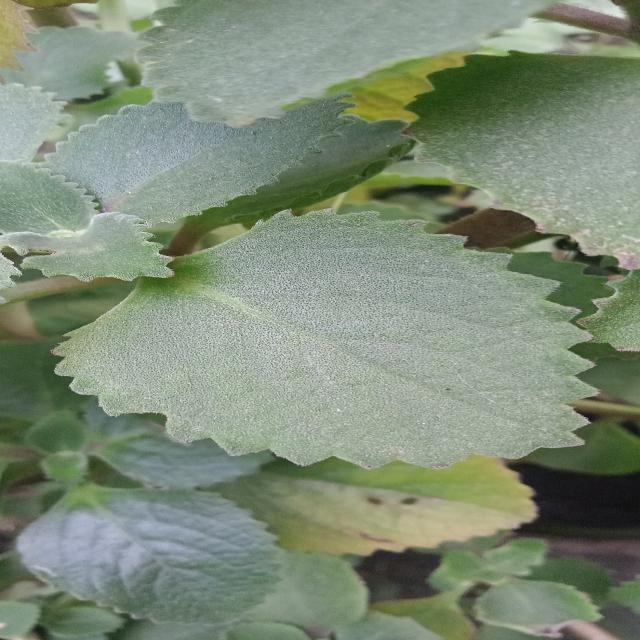Oregano: (39, 185, 633, 509)
